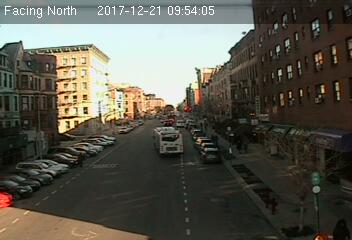bus: (153, 126, 183, 155)
truck: (201, 148, 222, 163)
